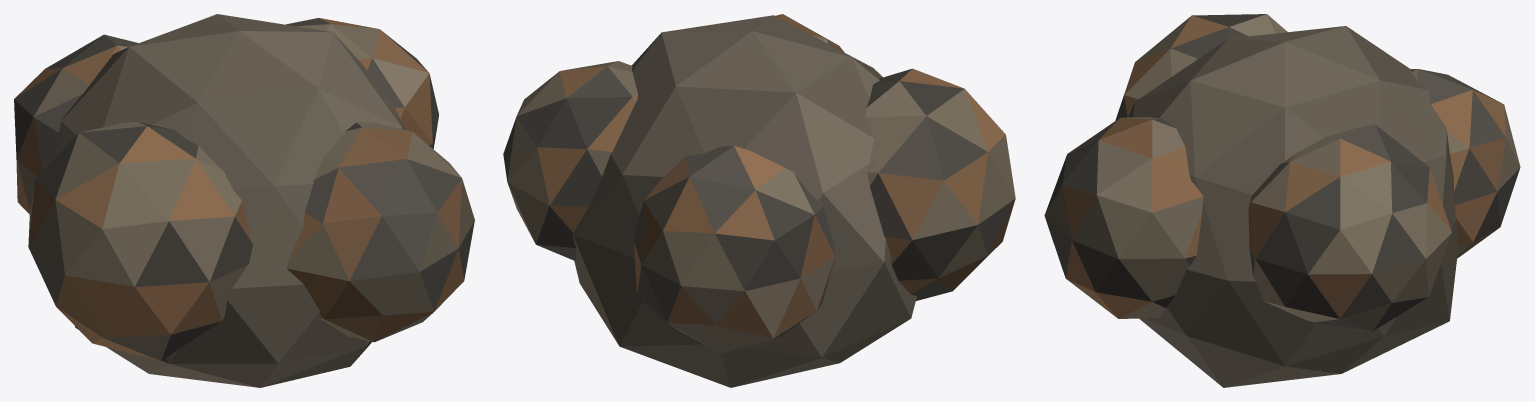
The model's file is scree_pebbles.glb.
3 views of the same model, side by side, from view 1: azimuth 30°, elevation 25°; view 2: azimuth 150°, elevation 25°; view 3: azimuth 270°, elevation 25° (orthographic). The views are drawn at different scales.
Visible parts, largest first — view 1: Mesh; view 2: Mesh; view 3: Mesh.
Boxes of the visible parts, x1,y1,x2,y2 form: Mesh: (14,14,474,387); Mesh: (503,14,1015,387); Mesh: (1044,14,1520,387).
Bounding box in the file's own units: 0.4221 × 0.318 × 0.4265.
